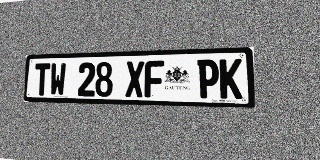2: (78, 62, 95, 96)
8: (95, 62, 113, 97)
F: (144, 60, 164, 98)
K: (219, 59, 242, 99)
P: (197, 59, 219, 98)
T: (34, 63, 50, 96)
W: (49, 63, 66, 96)
X: (125, 61, 144, 97)
